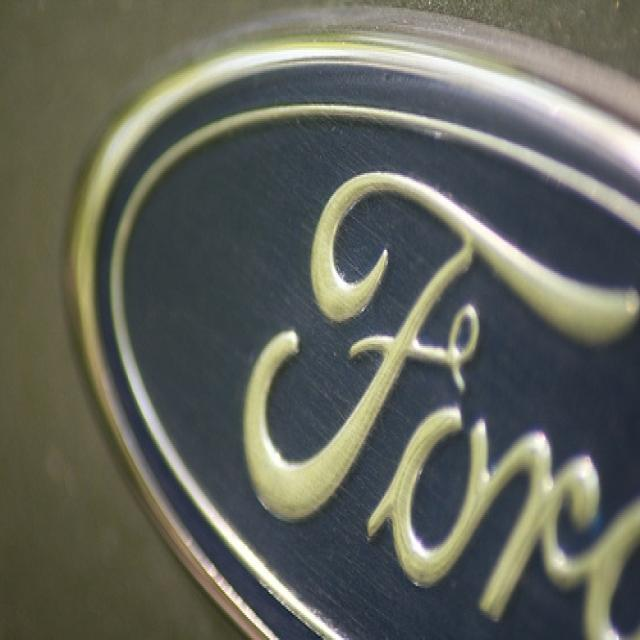ford: (69, 7, 640, 639)
